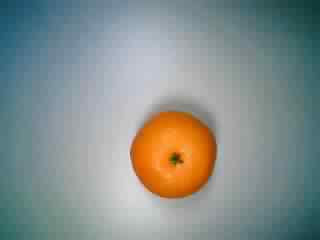orange: (126, 101, 221, 203)
